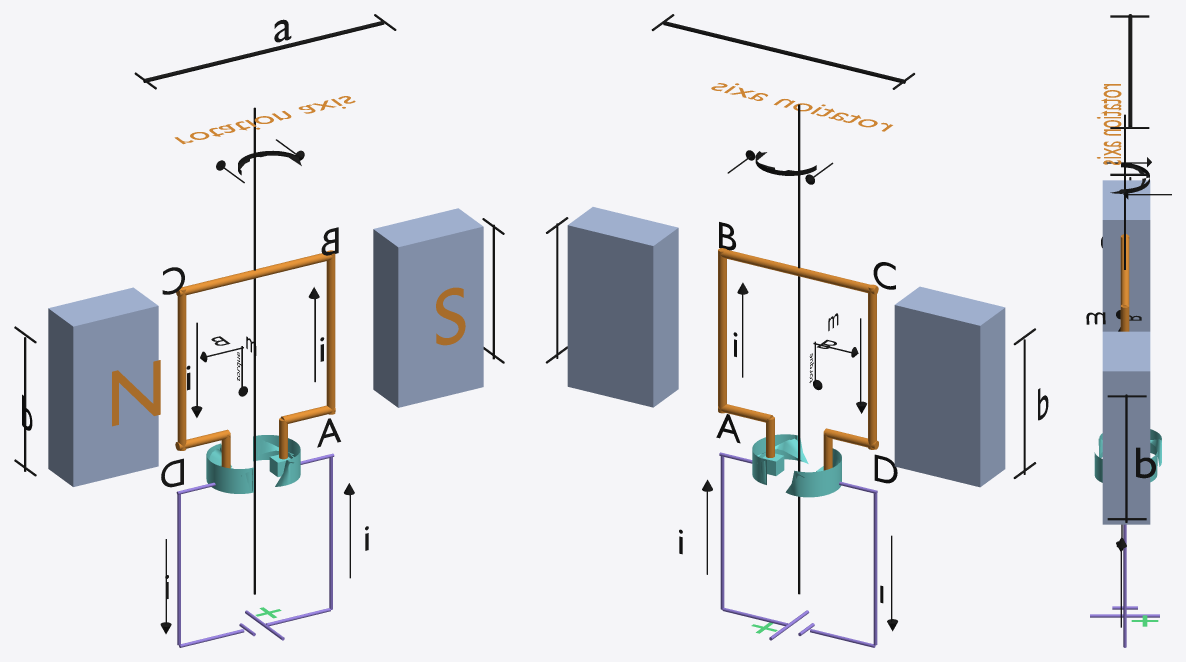
The model's file is torque_rotating.glb.
The picture shows the model from 3 angles, left to right: view 1: azimuth 30°, elevation 25°; view 2: azimuth 150°, elevation 25°; view 3: azimuth 270°, elevation 25°; orthographic projection. The views are drawn at different scales.
Parts seen in each view (by area): view 1: Cube, Cube.001, Cylinder.018, Cylinder.023, Text.002, Cylinder.024, Text.006, Text.003; view 2: Cube, Cube.001, Cylinder.018, Cylinder.023, Cylinder.024, Text.006; view 3: Cube, Cube.001, Cylinder.018, Text.006, Cylinder.024, Cylinder.014, Cylinder.034, Text.004, Cylinder.023.
Boxes of the visible parts, box(x1,y1,x2,y2) form: Cube: box(373, 208, 483, 407); Cube.001: box(48, 287, 158, 486); Cylinder.018: box(175, 250, 335, 647); Cylinder.023: box(253, 107, 255, 594); Text.002: box(112, 360, 160, 426); Cylinder.024: box(143, 20, 384, 82); Text.006: box(174, 96, 355, 144); Text.003: box(436, 287, 465, 345); Cube: box(567, 207, 678, 407); Cube.001: box(894, 286, 1005, 487); Cylinder.018: box(718, 248, 878, 647); Cylinder.023: box(798, 104, 800, 594); Cylinder.024: box(663, 21, 905, 83); Text.006: box(711, 83, 892, 131); Cube: box(1102, 331, 1150, 524); Cube.001: box(1102, 180, 1150, 331); Cylinder.018: box(1090, 234, 1161, 647); Text.006: box(1097, 84, 1121, 164); Cylinder.024: box(1128, 14, 1132, 126); Cylinder.014: box(1125, 394, 1127, 522); Cylinder.034: box(1110, 163, 1149, 193); Text.004: box(1136, 447, 1155, 478); Cylinder.023: box(1124, 114, 1125, 269).
Size of the model in its own units: 6.3 by 7.52 by 1.12.
